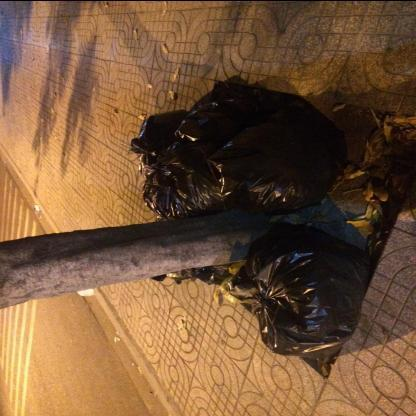plastik: (127, 82, 347, 221), (227, 224, 377, 358)
